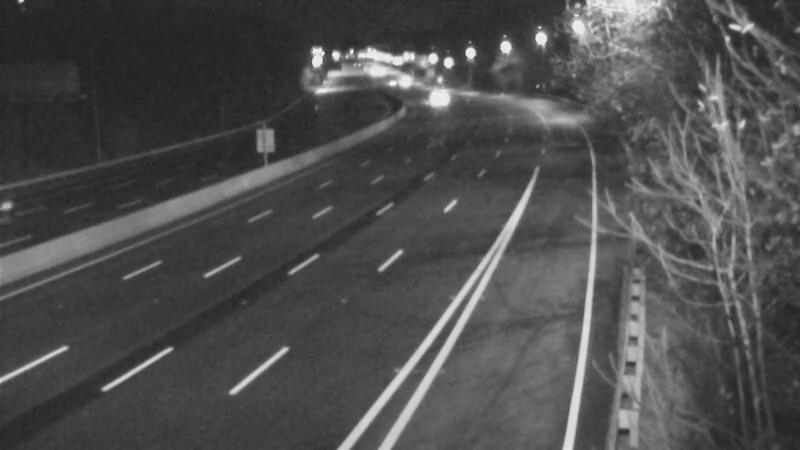vehicle: (377, 56, 427, 106), (364, 54, 414, 104), (409, 72, 459, 122)
